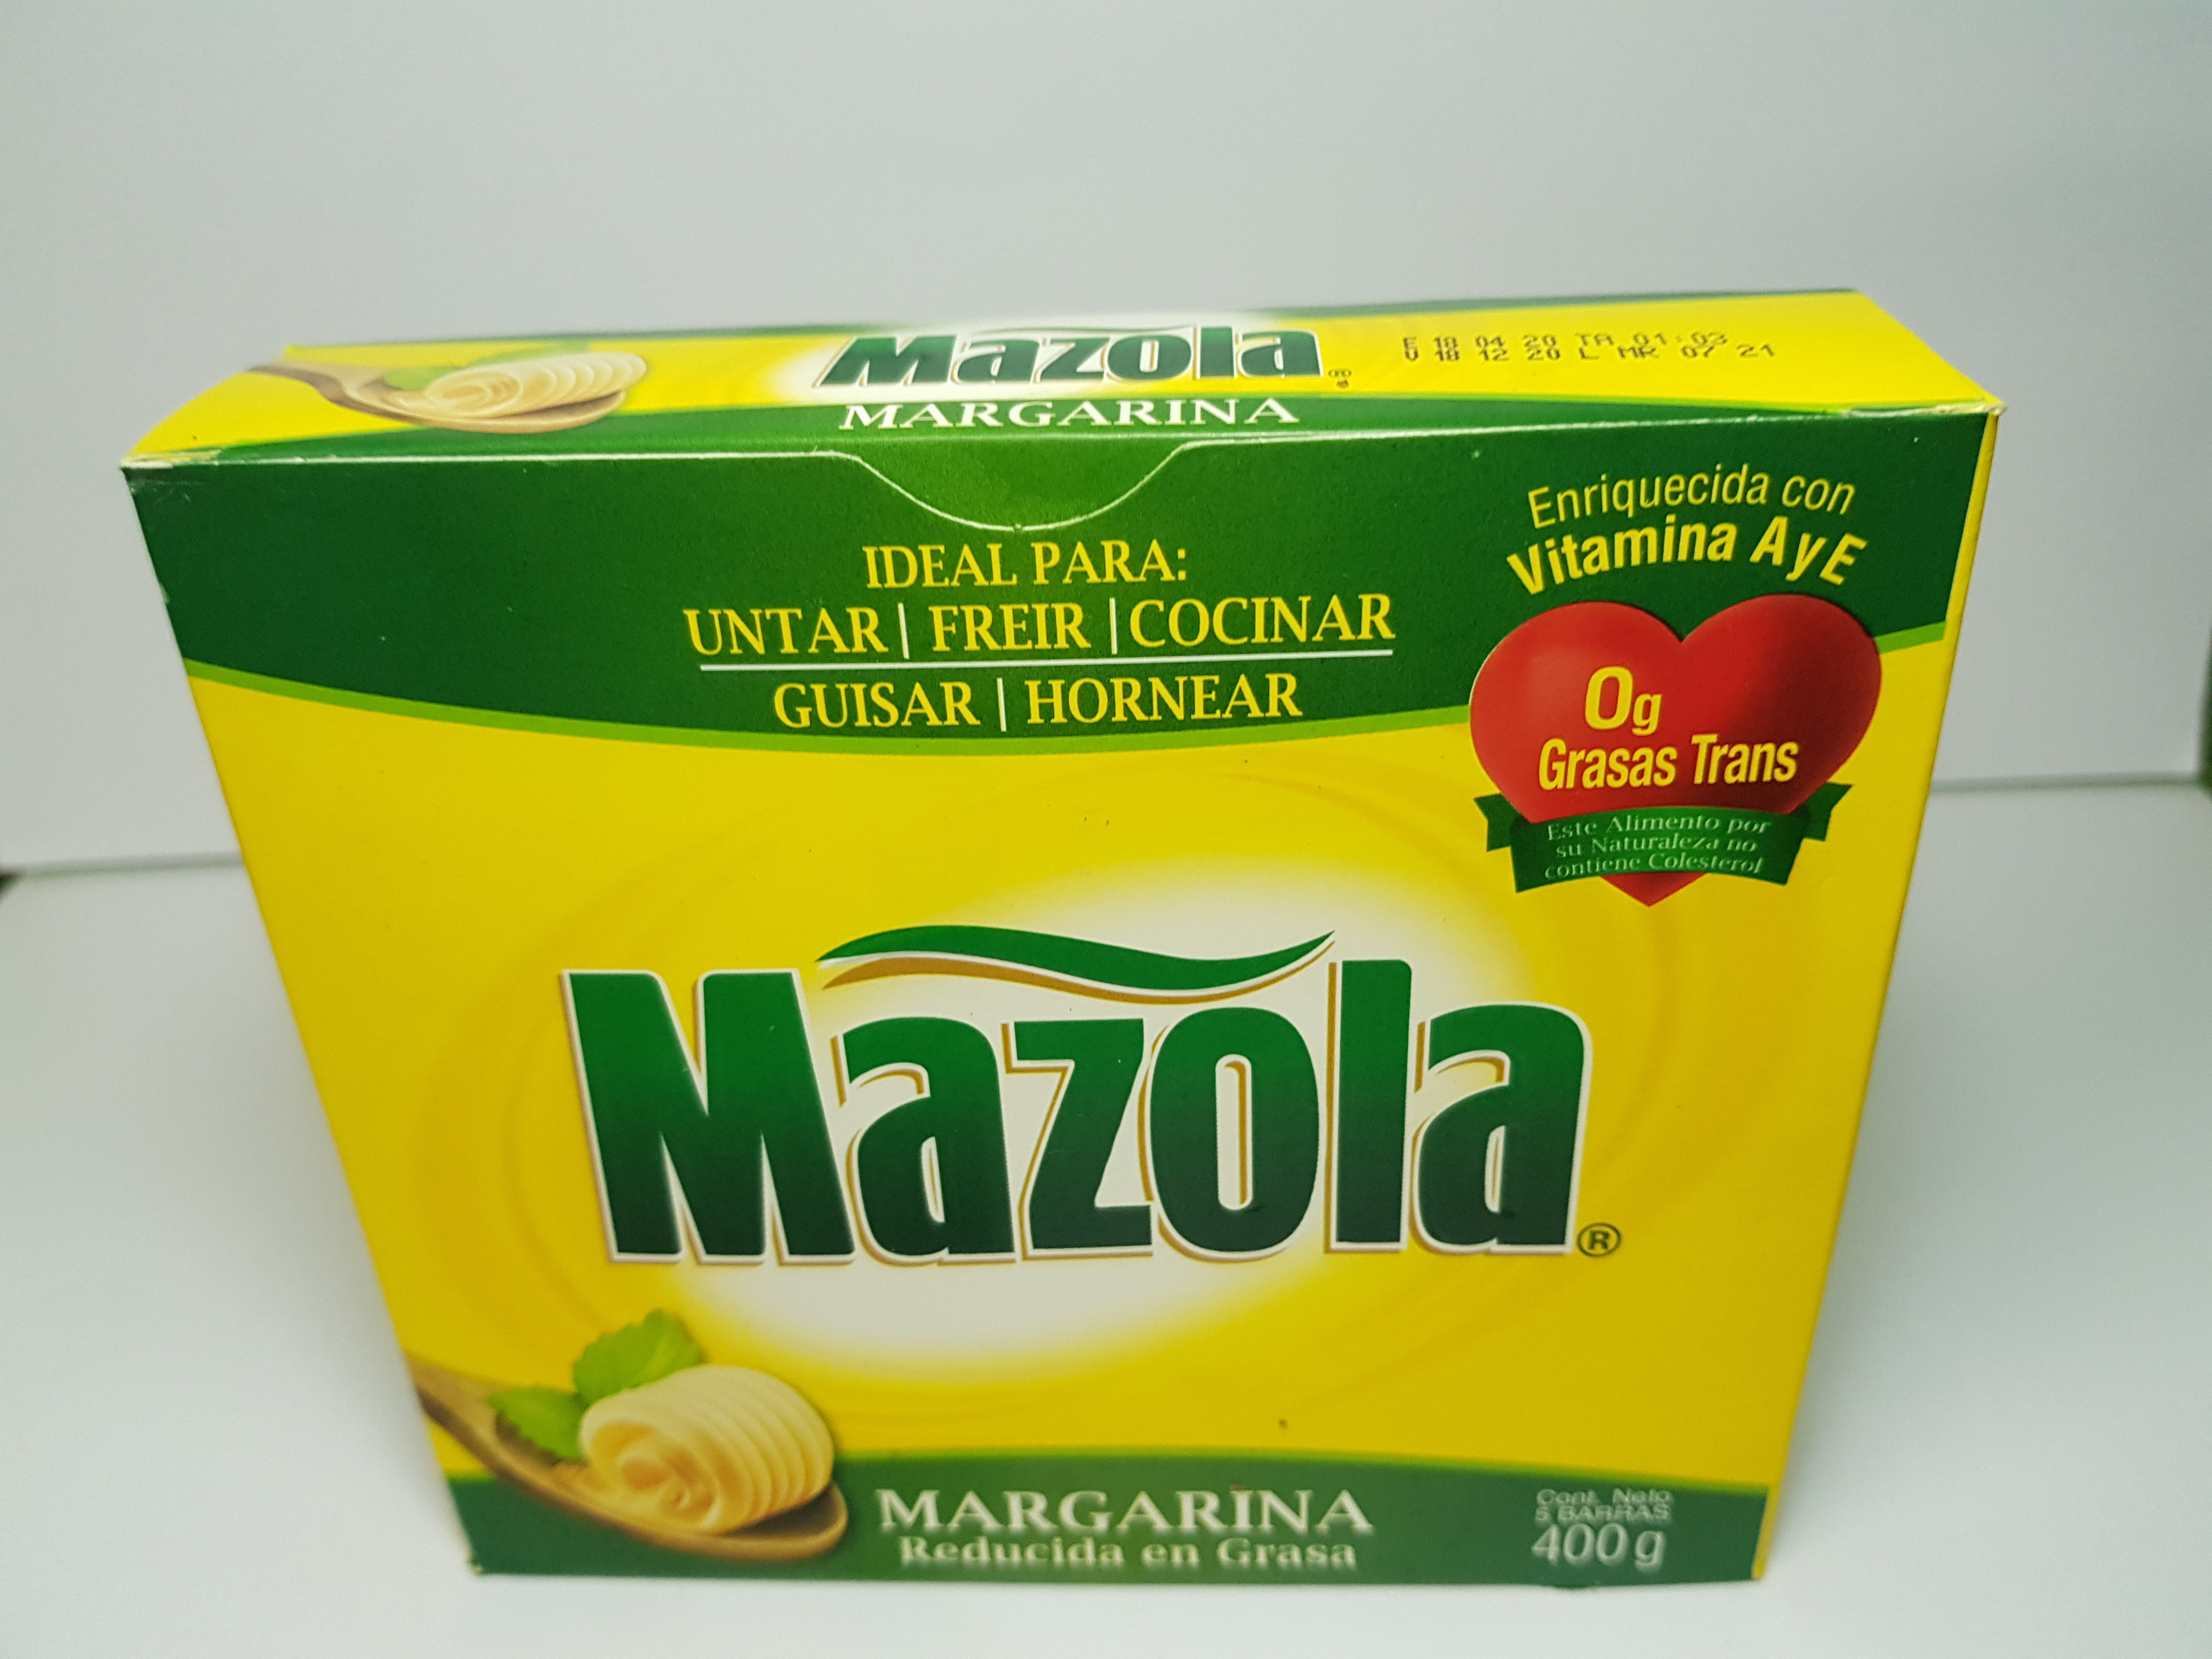mazola: (84, 277, 2078, 1614)
